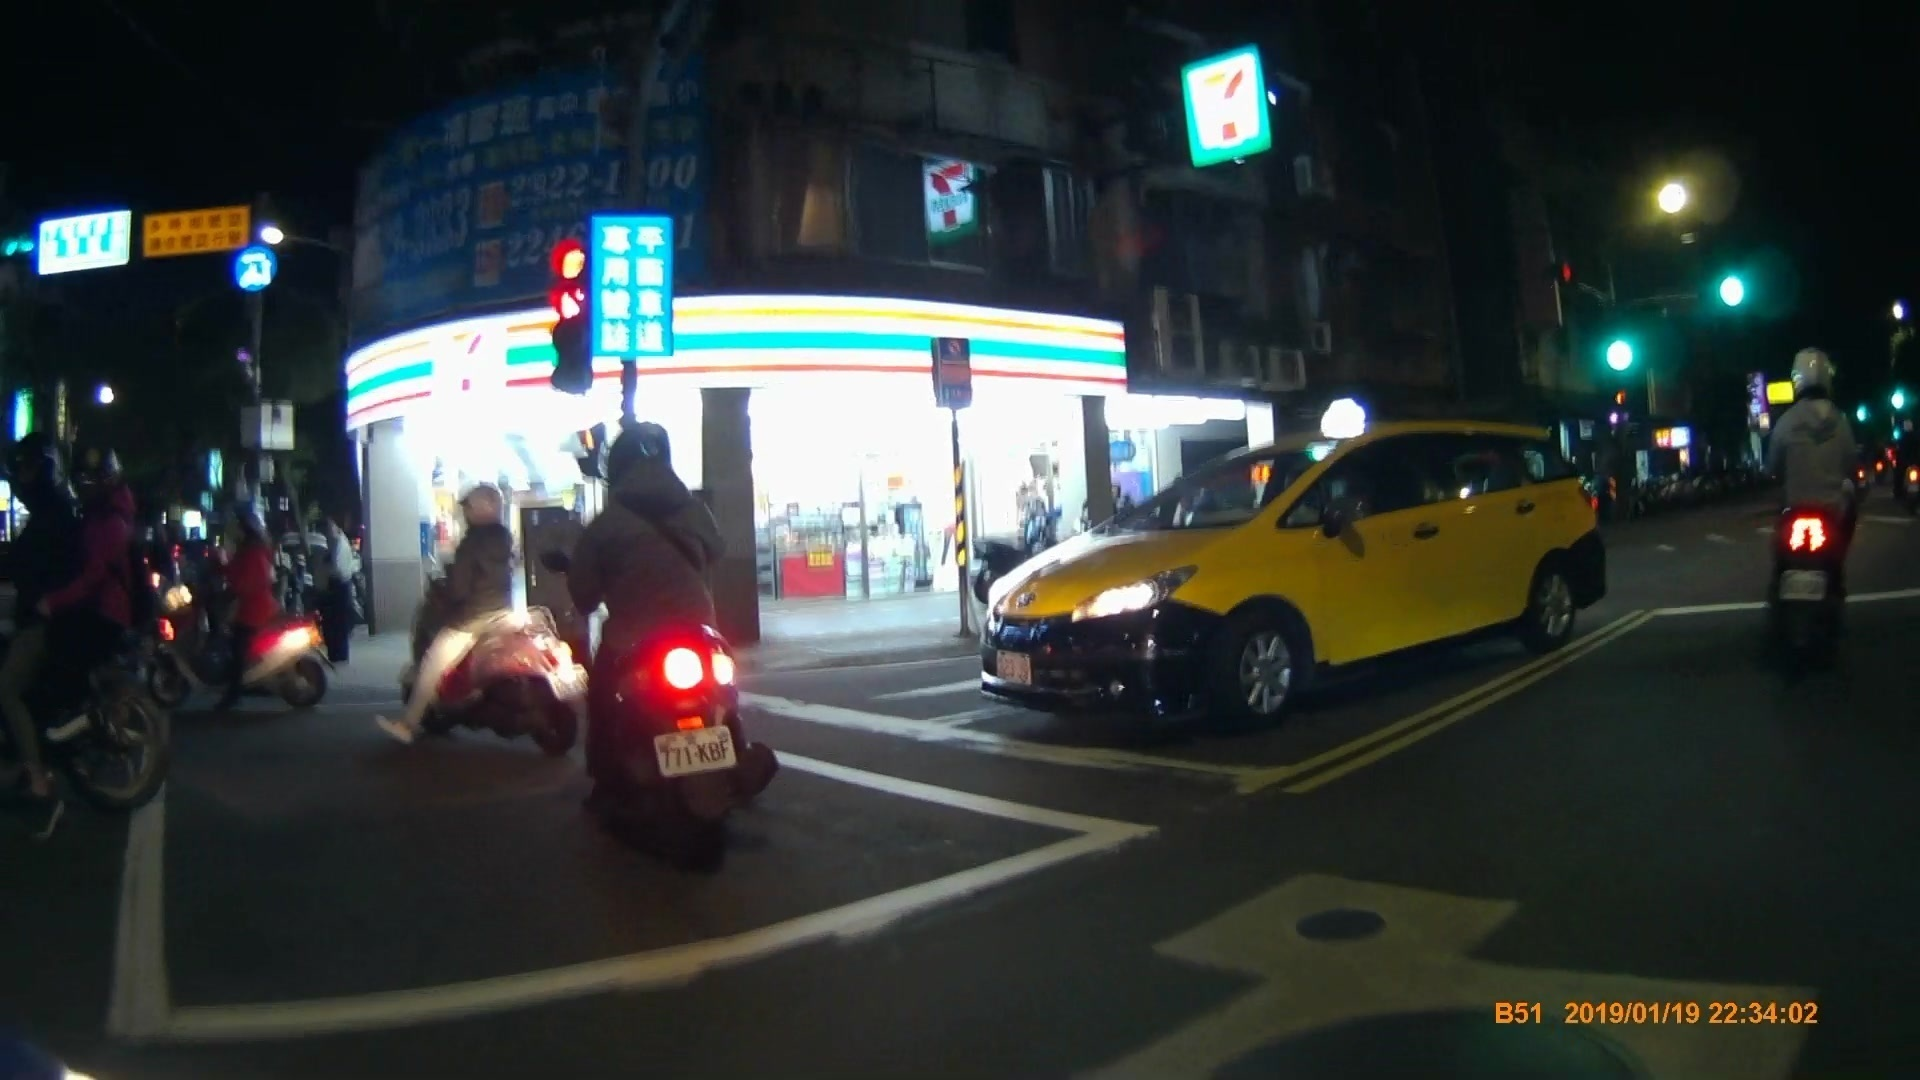License_plate: (648, 722, 742, 775), (994, 644, 1038, 689), (1781, 566, 1823, 596)
